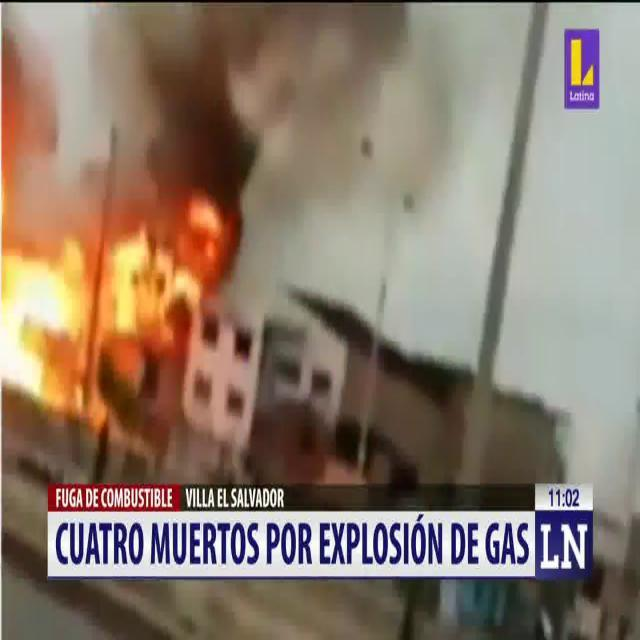Fire: (4, 196, 237, 454)
Smoke: (14, 1, 606, 294)
